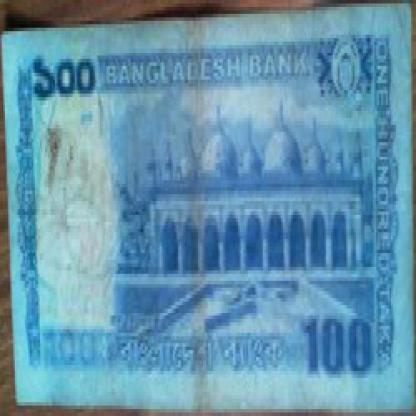one hundred taka: (304, 309, 382, 395), (23, 48, 98, 114)
